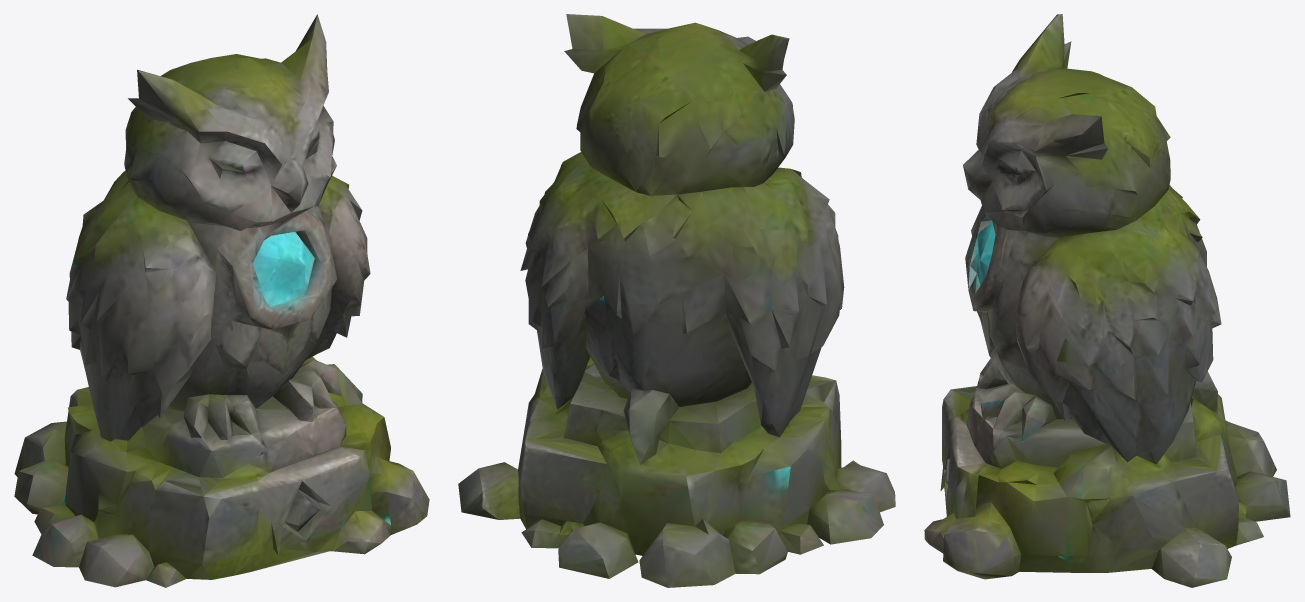
File: estatua_piedra.glb
3 views of the same model, side by side, from view 1: azimuth 30°, elevation 25°; view 2: azimuth 150°, elevation 25°; view 3: azimuth 270°, elevation 25° (orthographic). The views are drawn at different scales.
Parts seen in each view (by area): view 1: estatua_piedra_malla; view 2: estatua_piedra_malla; view 3: estatua_piedra_malla.
Boxes of the visible parts, x1,y1,x2,y2 form: estatua_piedra_malla: (14, 14, 429, 587); estatua_piedra_malla: (458, 14, 895, 587); estatua_piedra_malla: (924, 14, 1290, 587).
Bounding box in the file's own units: 0.2886 × 0.3647 × 0.2674.
Materials: 1 (1 with a texture image).
